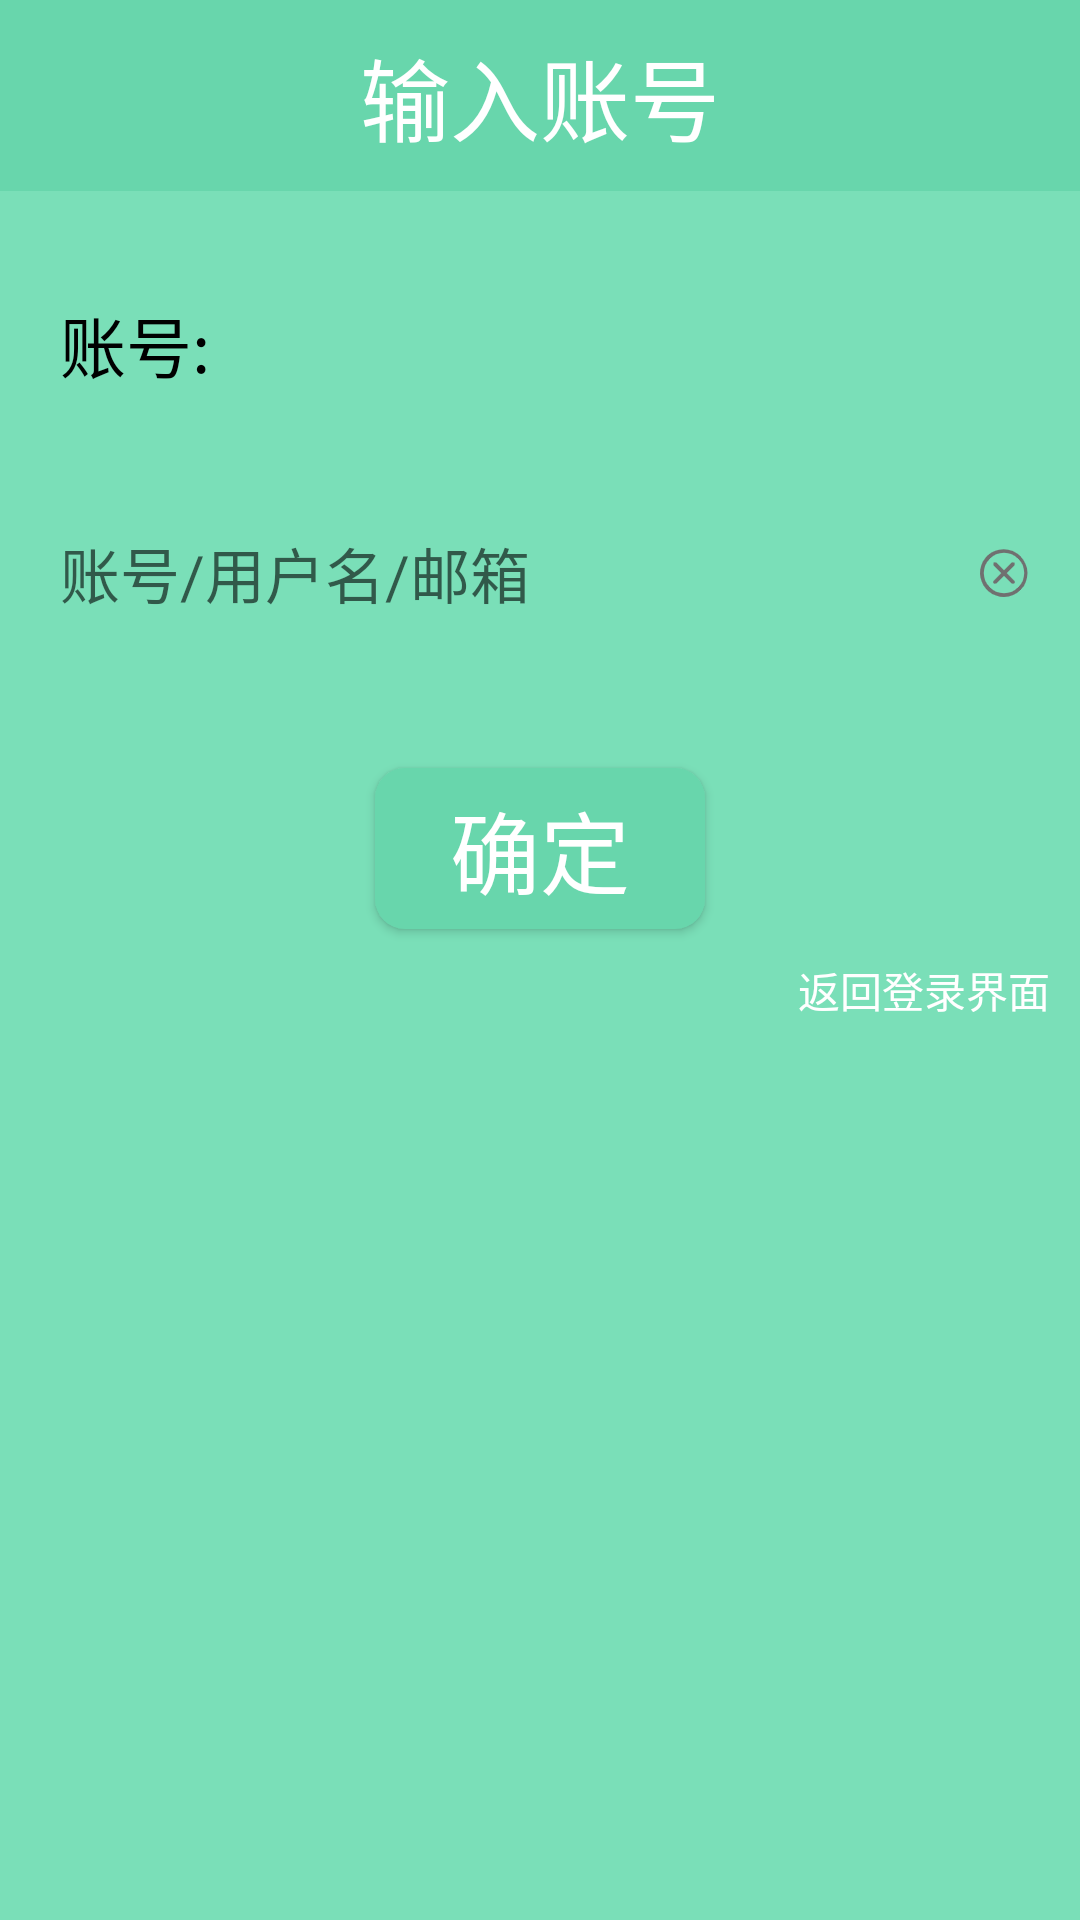

Screen size 1080 x 1920. Icon name, then its box in pixels as (x1, y1, x2, y2):
chahao: (980, 549, 1028, 597)
